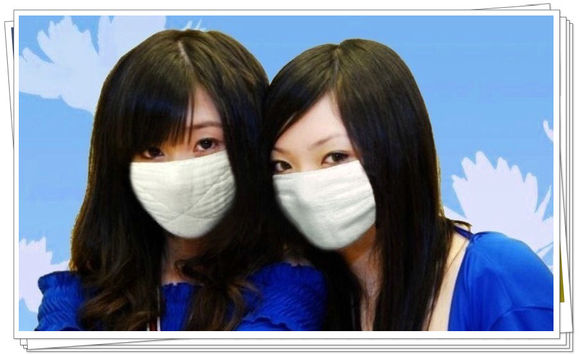face_mask: (130, 79, 243, 237), (274, 96, 378, 252)
